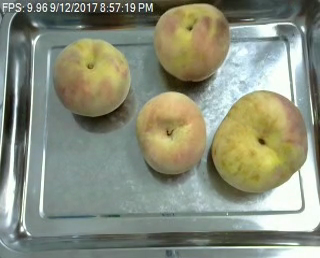Peach: (212, 88, 308, 194), (53, 37, 130, 117), (153, 2, 230, 81), (136, 91, 205, 174)
